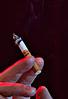smoke: (10, 31, 40, 73)
